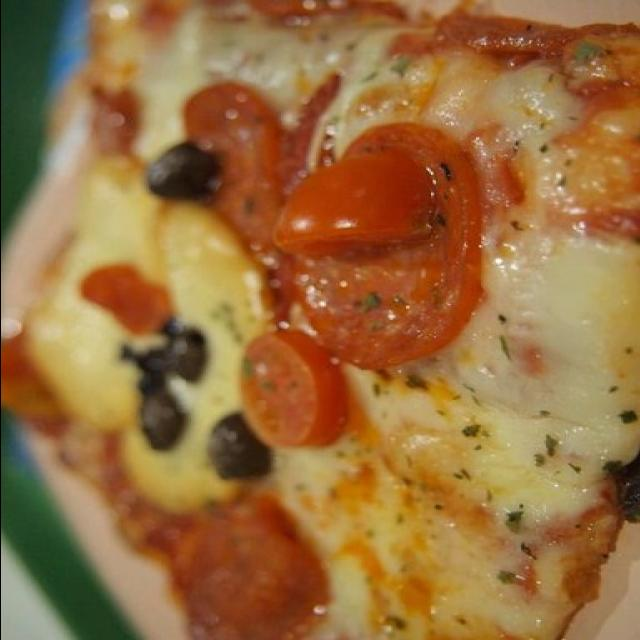olive: (371, 412, 433, 482), (429, 144, 497, 197), (452, 384, 500, 452), (434, 326, 478, 384), (468, 348, 522, 380)
pepperoni: (158, 122, 351, 373), (321, 496, 453, 632)
pizza: (0, 0, 640, 640)
